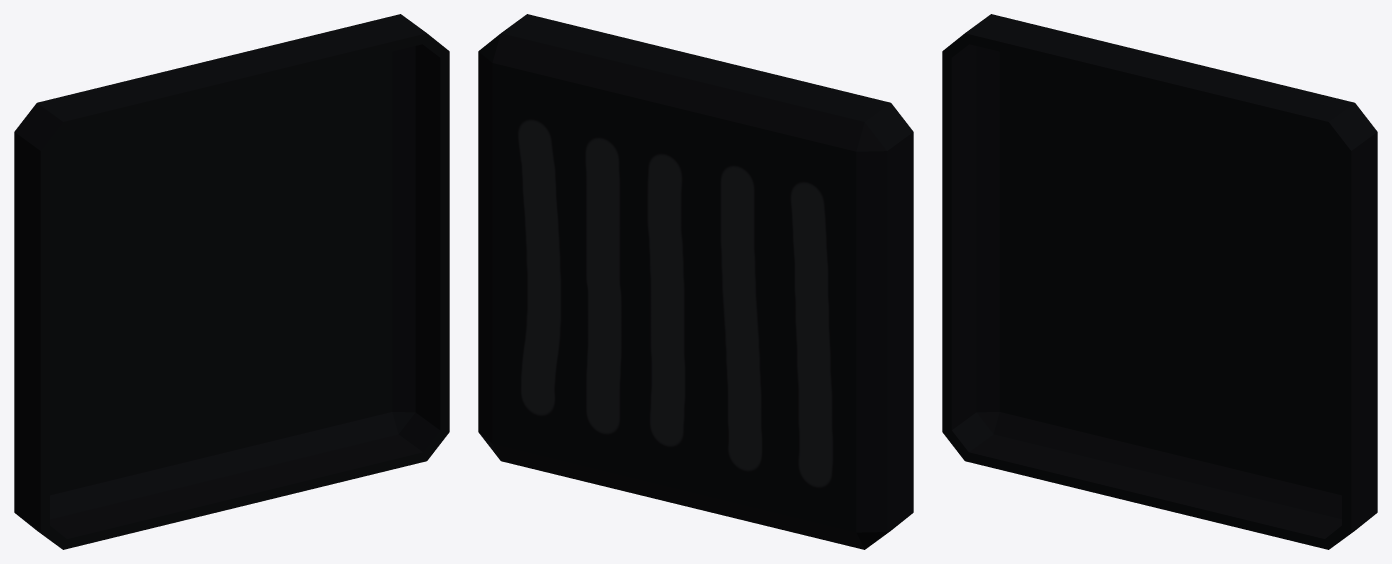
File: oxygenpumpcase.glb
The picture shows the model from 3 angles, left to right: view 1: azimuth 30°, elevation 25°; view 2: azimuth 150°, elevation 25°; view 3: azimuth 330°, elevation 25°; orthographic projection.
Parts seen in each view (by area): view 1: casing; view 2: casing; view 3: casing.
Boxes of the visible parts, bbox=[...] form: casing: bbox=[14, 14, 449, 549]; casing: bbox=[478, 14, 913, 549]; casing: bbox=[942, 14, 1377, 549].
Size of the model in its own units: 7.65 by 7.65 by 1.12.
1 material, 1 textured.
